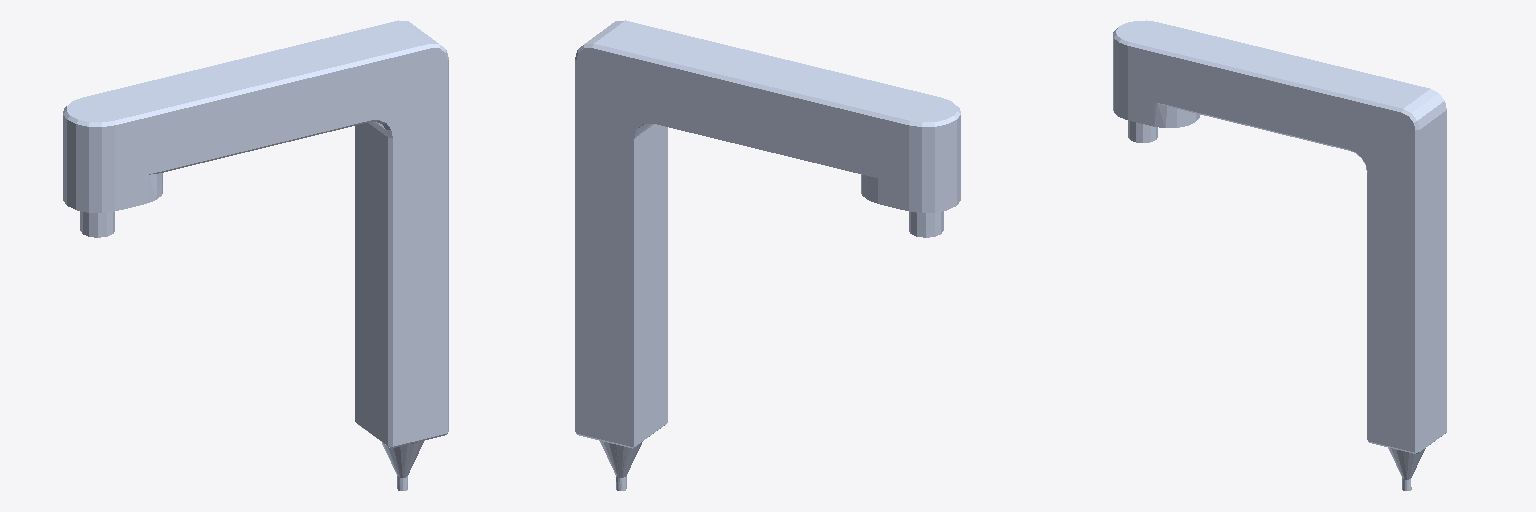
URDF robot description (Arm_link3_simple.SLDPRT):
<robot
  name="Arm_link3_simple.SLDPRT">
  <link
    name="Arm_link3_simple.SLDPRT">
    <inertial>
      <origin
        xyz="0.35308 0.056975 4.58179999999965E-05"
        rpy="0 0 0" />
      <mass
        value="31.843" />
      <inertia
        ixx="1.14535612773492"
        ixy="1.9643002701591E-05"
        ixz="-0.625467963004431"
        iyy="7.53776259764366E-05"
        iyz="-1.14069726824125"
        izz="-7.53776259762299E-05" />
    </inertial>
    <visual>
      <origin
        xyz="1.5707963267949 0 0"
        rpy="0 0 0" />
      <geometry>
        <mesh
          filename="package://Arm_link3_simple.SLDPRT/meshes/Arm_link3_simple.SLDPRT.STL" />
      </geometry>
      <material
        name="">
        <color
          rgba="0.86667 0.9098 1 1" />
      </material>
    </visual>
    <collision>
      <origin
        xyz="0 0 0"
        rpy="1.5707963267949 0 0" />
      <geometry>
        <mesh
          filename="package://Arm_link3_simple.SLDPRT/meshes/Arm_link3_simple.SLDPRT.STL" />
      </geometry>
    </collision>
  </link>
</robot>

--- Render facts (derived) ---
3 views of the same robot in one strip: view 1: azimuth 30°, elevation 25°; view 2: azimuth 150°, elevation 25°; view 3: azimuth 330°, elevation 25° (orthographic).
Robot: Arm_link3_simple.SLDPRT — 1 links, 0 joints (none); root link Arm_link3_simple.SLDPRT; default pose: every joint at zero.
Visible links, largest first — view 1: Arm_link3_simple.SLDPRT; view 2: Arm_link3_simple.SLDPRT; view 3: Arm_link3_simple.SLDPRT.
Link boxes in pixels (bbox=[...]): Arm_link3_simple.SLDPRT: bbox=[63, 20, 448, 490]; Arm_link3_simple.SLDPRT: bbox=[575, 20, 960, 490]; Arm_link3_simple.SLDPRT: bbox=[1113, 20, 1446, 490].
Bounding box of the posed robot: 0.6 × 0.1 × 0.7123 m (x, y, z).
Meshes: 1 distinct files referenced, 1 mesh visuals loaded (1 binary STL).